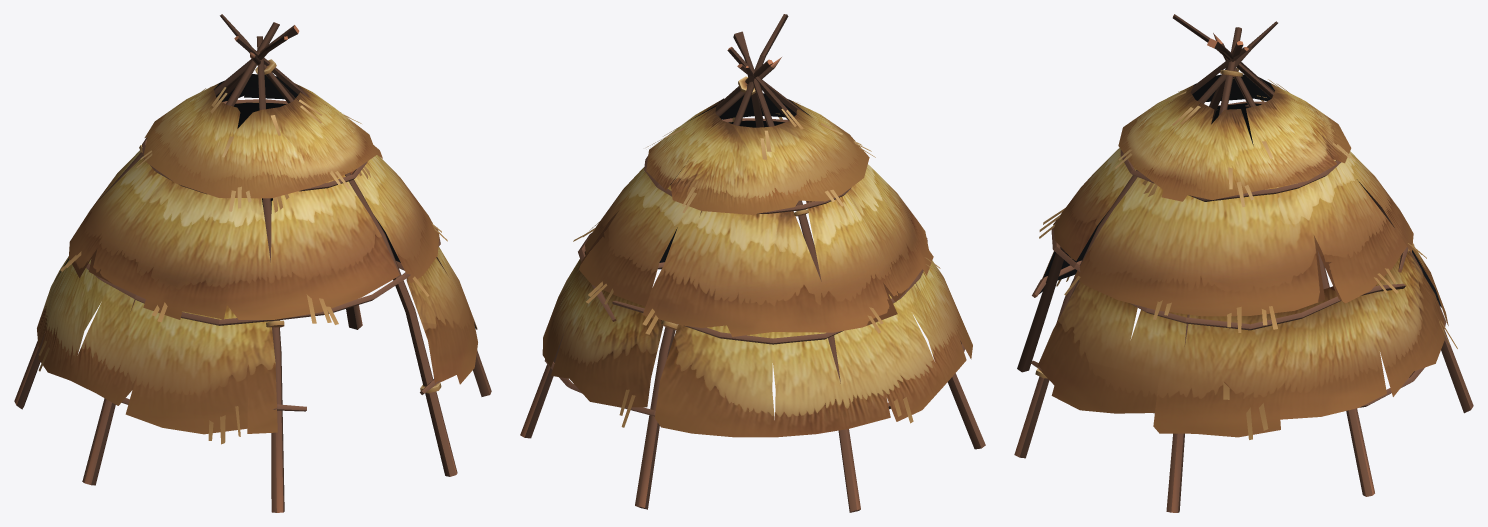
Rendered from Hut_2A.fbx.
3 views of the same model, side by side, from view 1: azimuth 30°, elevation 25°; view 2: azimuth 150°, elevation 25°; view 3: azimuth 270°, elevation 25° (orthographic). The views are drawn at different scales.
Parts seen in each view (by area): view 1: Hut_2A; view 2: Hut_2A; view 3: Hut_2A.
Part boxes in pixels (left/top/right/bottom): Hut_2A: left=14, top=14, right=491, bottom=512; Hut_2A: left=520, top=14, right=985, bottom=512; Hut_2A: left=1014, top=14, right=1473, bottom=512.
Bounding box in the file's own units: 558 × 532 × 550.
